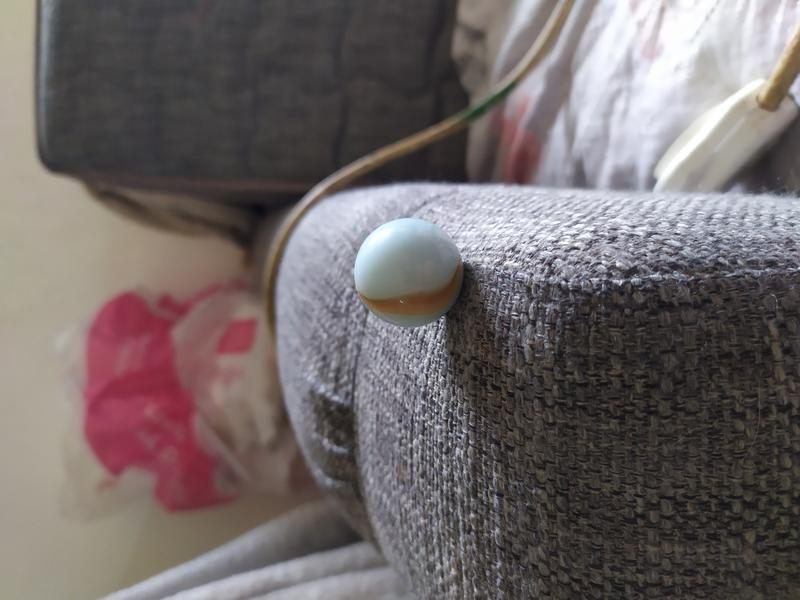Warning: (352, 215, 467, 330)
